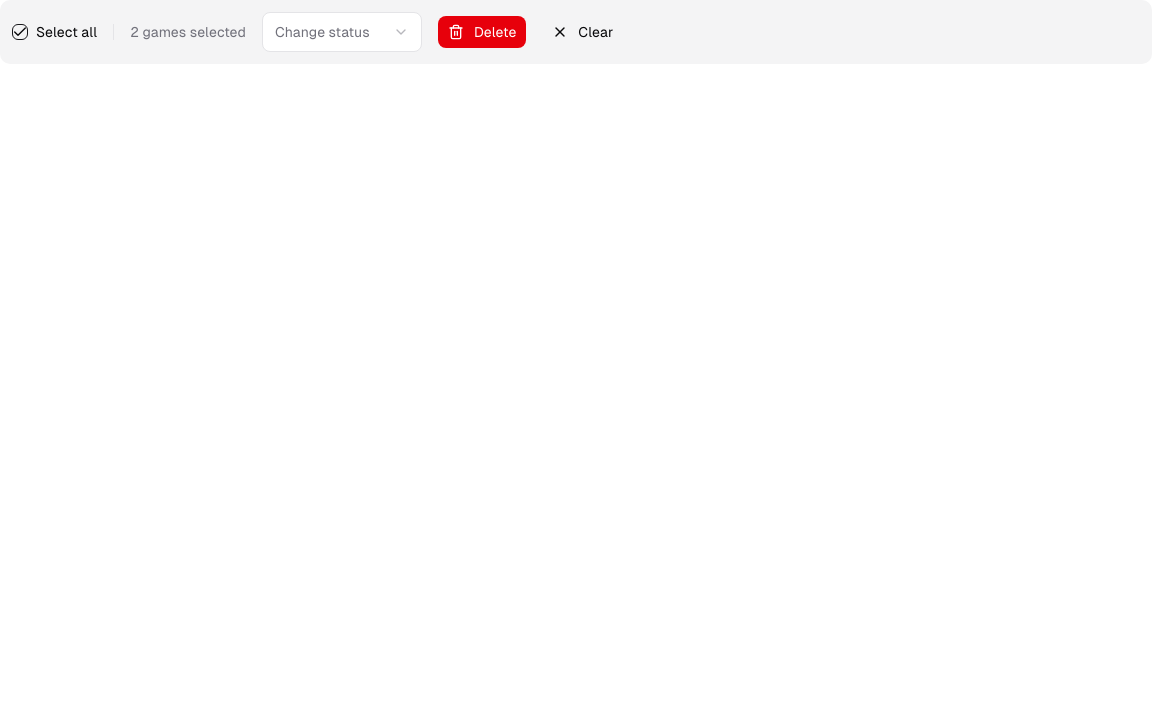
Scenario: BulkActions › delete functionality › closes dialog after successful delete
Step 1. Click the button "Delete" → (482, 32), box [438,16,526,48]
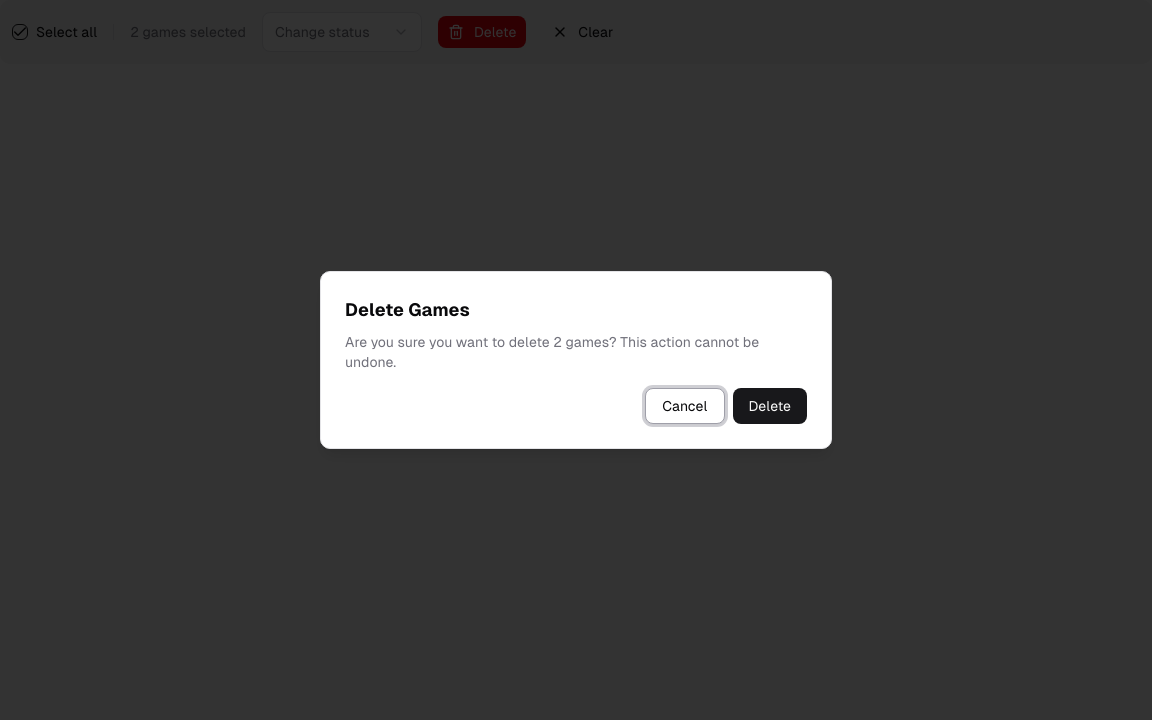
Result: the dialog is shown at [320,271,832,449]
Step 2. Click the button "Delete" → (770, 406), box [732,388,807,424]
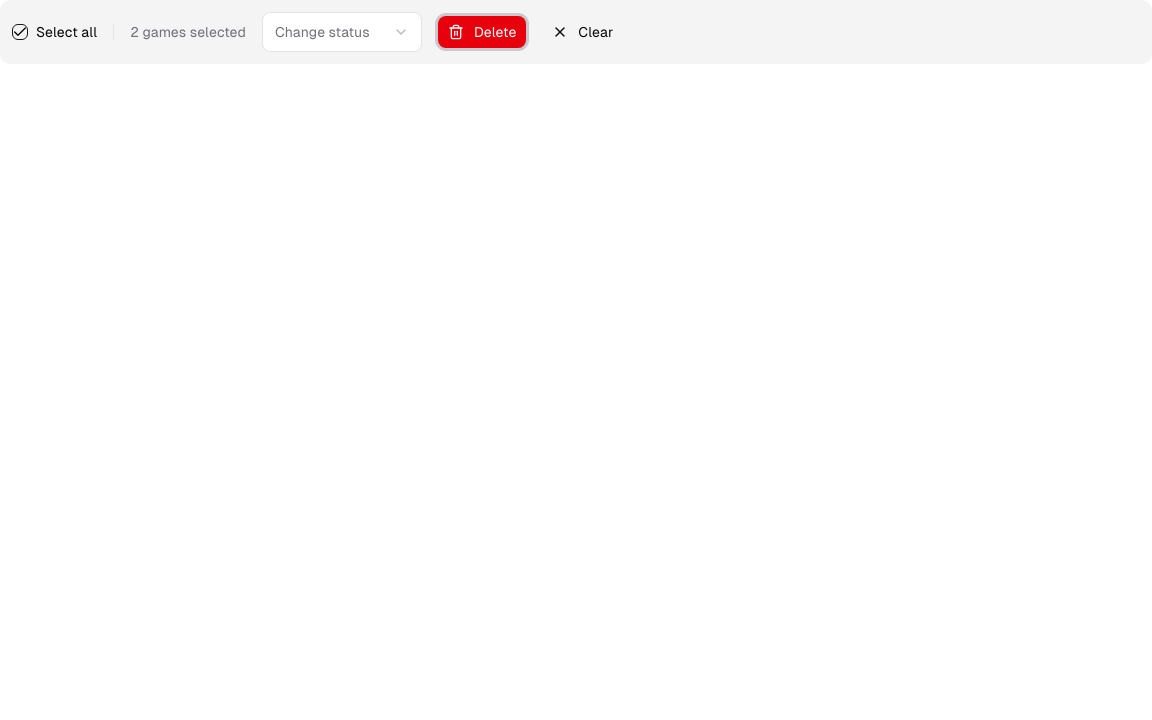
Result: the dialog is gone
